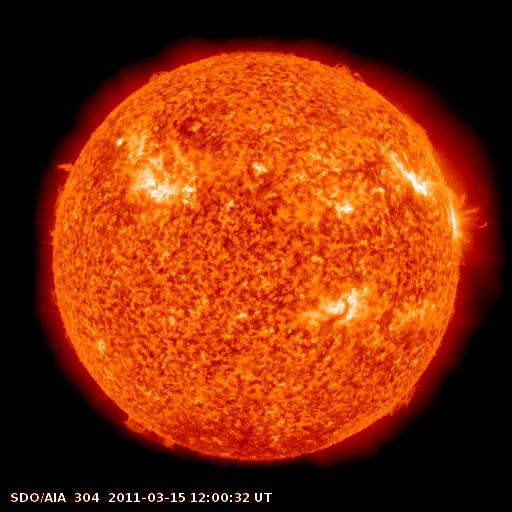prominence: (37, 148, 82, 259), (111, 410, 189, 455), (370, 380, 430, 423), (401, 109, 441, 159), (326, 54, 375, 89), (137, 59, 177, 92)
